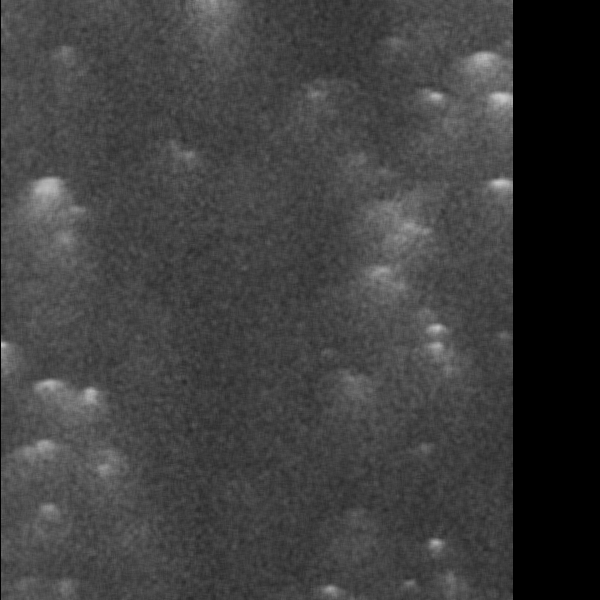spark: (12, 173, 78, 274), (367, 211, 440, 273), (72, 380, 102, 470), (354, 261, 415, 299), (25, 372, 80, 409), (304, 83, 333, 152), (417, 318, 453, 367), (163, 146, 206, 183), (44, 40, 80, 84), (377, 32, 416, 71), (335, 371, 368, 414), (26, 437, 63, 474), (488, 88, 515, 127), (417, 86, 449, 115), (487, 173, 512, 209), (423, 533, 446, 571), (32, 499, 61, 524), (410, 439, 435, 462), (395, 575, 421, 594), (318, 580, 343, 598), (55, 575, 73, 600)
